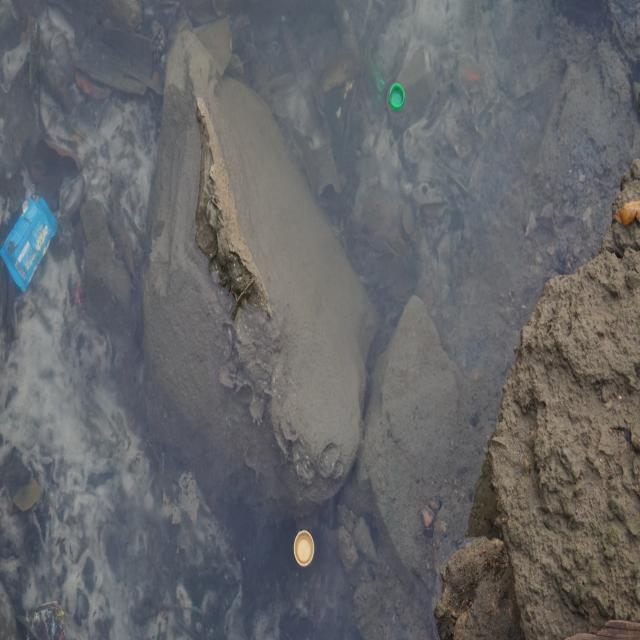Botol Plastik: (290, 522, 319, 573), (387, 80, 410, 119)
Bungkus Makanan: (4, 188, 62, 301)
